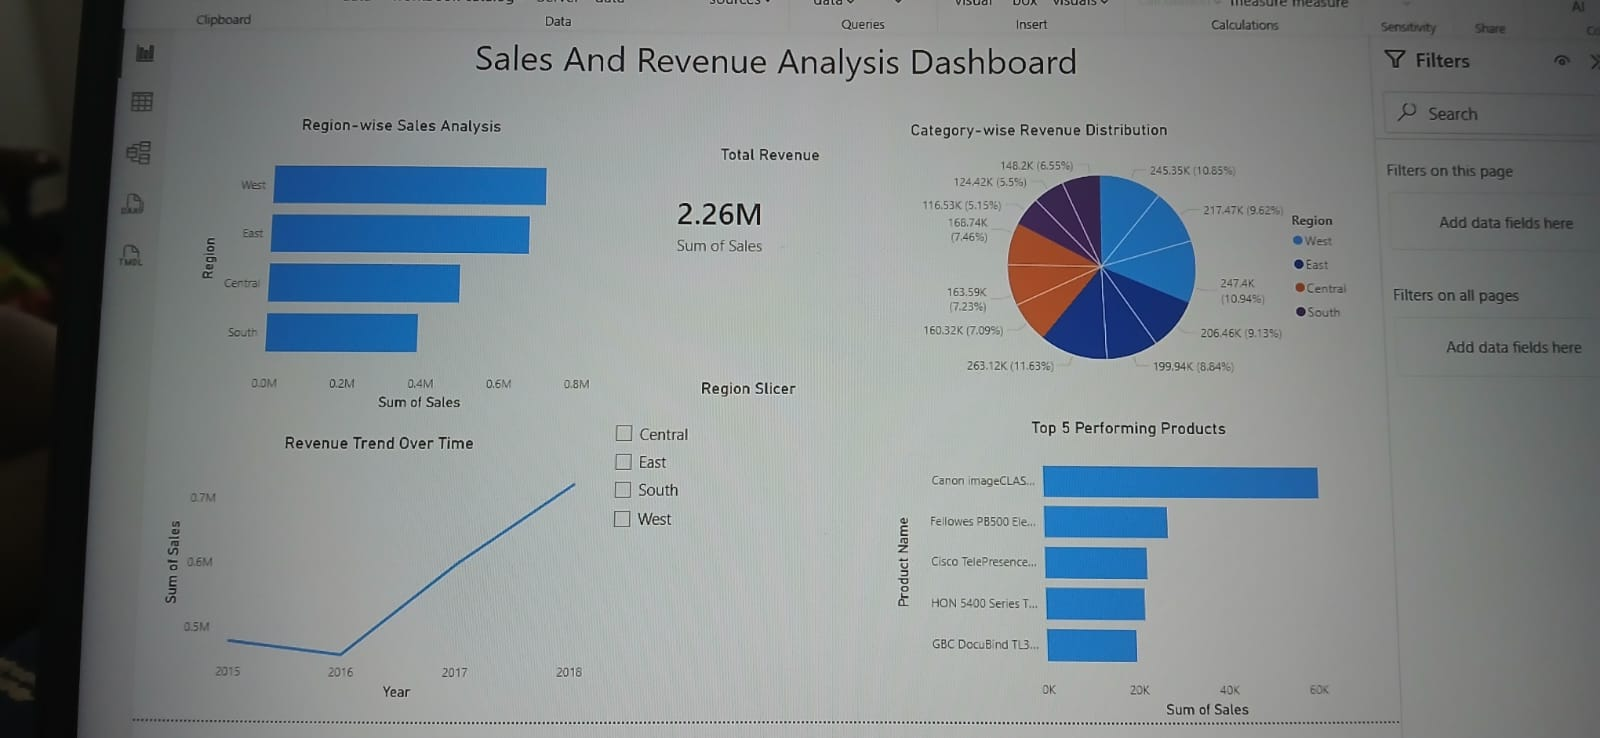

What the dashboard file says about the page in this screenshot:
{"tool":"powerbi","page":{"name":"Page 1","canvas":[1280,720],"ordinal":0},"visuals":[{"type":"pieChart","title":"Category-wise Revenue Distribution","fields":{"Category":["cleaned_sales_data.Region"],"Y":["Sum(cleaned_sales_data.Sales)"],"Series":["cleaned_sales_data.Category"]},"box":[783.5,96.1,474.8,295],"z":0},{"type":"clusteredBarChart","title":"Region-wise Sales Analysis","fields":{"Y":["Sum(cleaned_sales_data.Sales)"],"Category":["cleaned_sales_data.Region"]},"box":[41.2,96.1,415.8,317],"z":1},{"type":"slicer","title":"Region Slicer","fields":{"Values":["cleaned_sales_data.Region"]},"box":[466.6,373.2,299.1,251.1],"z":2},{"type":"textbox","box":[318.4,0,839.8,83.7],"z":3},{"type":"cardVisual","title":"Total Revenue","fields":{"Data":["Sum(cleaned_sales_data.Sales)"]},"box":[509.1,123.5,256.6,148.2],"z":4},{"type":"lineChart","title":"Revenue Trend Over Time","fields":{"Category":["cleaned_sales_data.Order Date.Variation.Date Hierarchy.Year","cleaned_sales_data.Order Date.Variation.Date Hierarchy.Quarter","cleaned_sales_data.Order Date.Variation.Date Hierarchy.Month","cleaned_sales_data.Order Date.Variation.Date Hierarchy.Day"],"Y":["Sum(cleaned_sales_data.Sales)"]},"box":[22,430.9,435,273.1],"z":5},{"type":"clusteredBarChart","title":"Top 5 Performing Products","fields":{"Category":["cleaned_sales_data.Product Name"],"Y":["Sum(cleaned_sales_data.Sales)"]},"box":[765.7,413,492.6,307.4],"z":6}]}

Visuals, with their boxes on the page's 1280x720 design canvas (x1, y1, x2, y2). These are canvas units, not pixel positions in the 1600x738 screenshot, which may show the page scaled, cropped or inside an application window:
"Category-wise Revenue Distribution" pieChart: bbox=[784, 96, 1258, 391]
"Region-wise Sales Analysis" clusteredBarChart: bbox=[41, 96, 457, 413]
"Region Slicer" slicer: bbox=[467, 373, 766, 624]
textbox: bbox=[318, 0, 1158, 84]
"Total Revenue" cardVisual: bbox=[509, 124, 766, 272]
"Revenue Trend Over Time" lineChart: bbox=[22, 431, 457, 704]
"Top 5 Performing Products" clusteredBarChart: bbox=[766, 413, 1258, 720]
